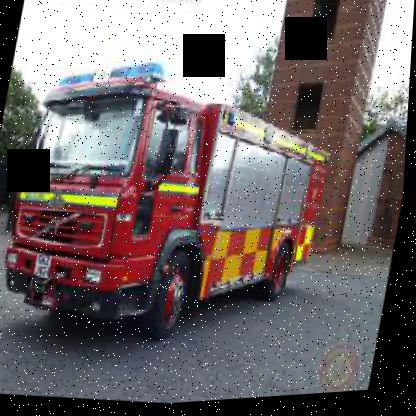emergency: (0, 39, 385, 401)
